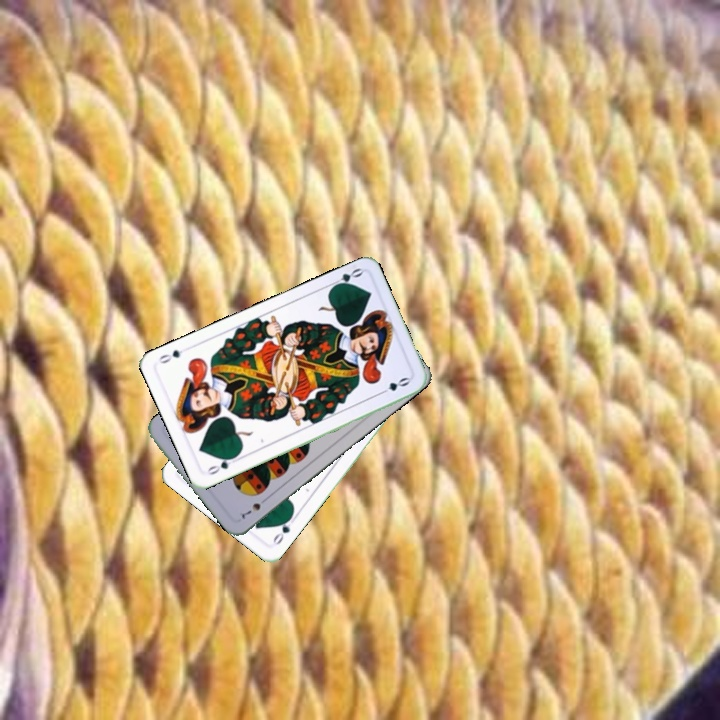GO: (326, 264, 365, 291), (203, 452, 241, 478), (268, 512, 295, 548)
S7: (235, 493, 271, 523)
